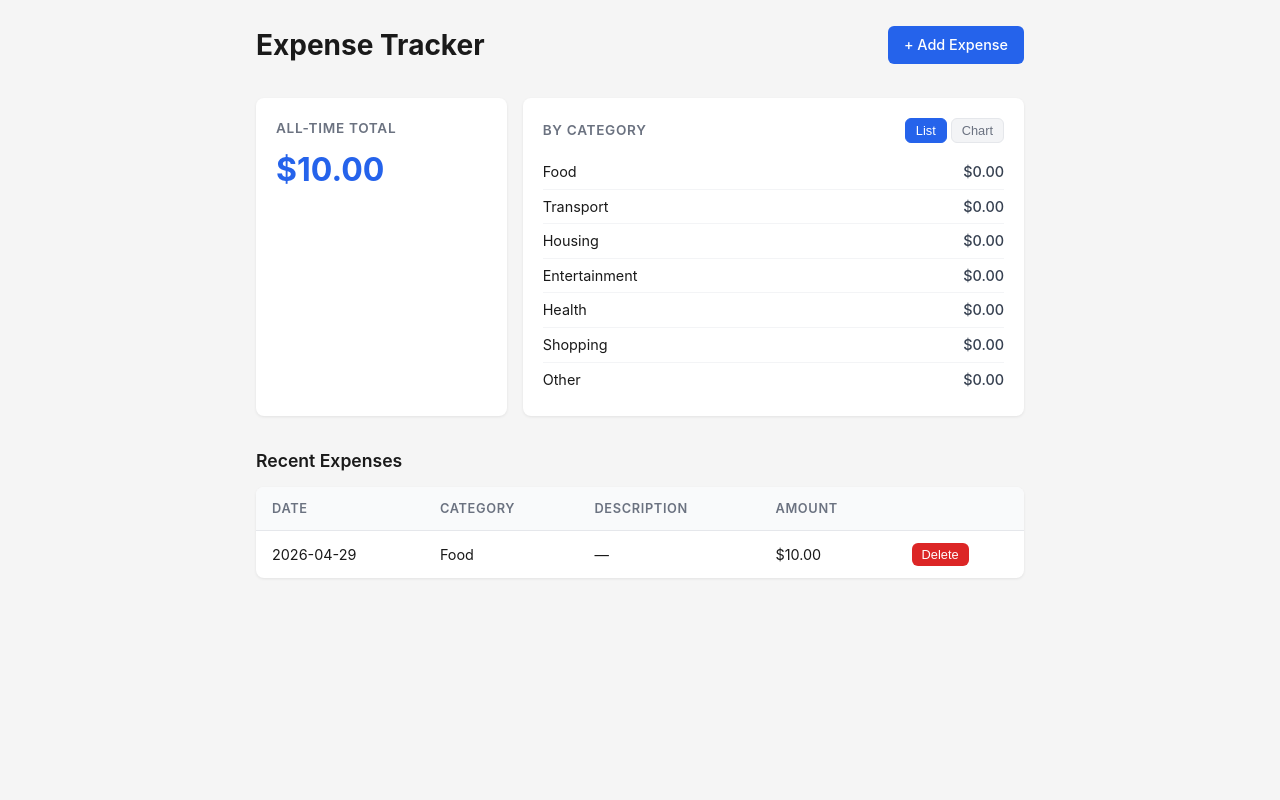
DashboardComponent › delete flow › should show the confirm dialog when delete is clicked
Click the button with test id "delete-btn": click(940, 554) [912,543,969,566]
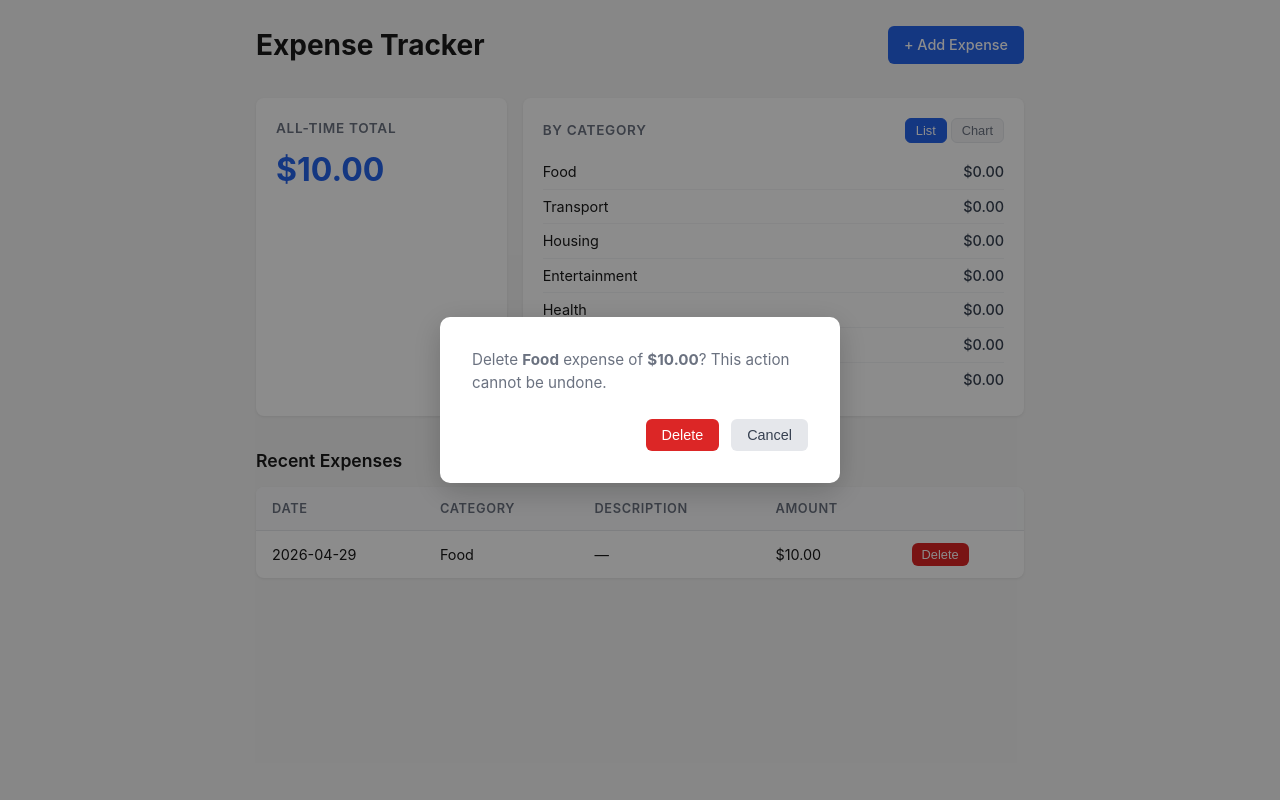
Now the button with test id "confirm-btn" is shown, box [646,419,719,451]
